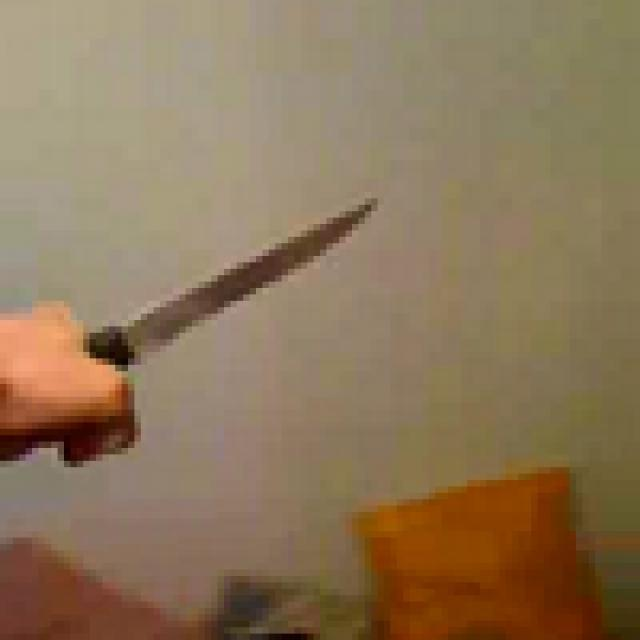knife: (51, 167, 442, 455)
